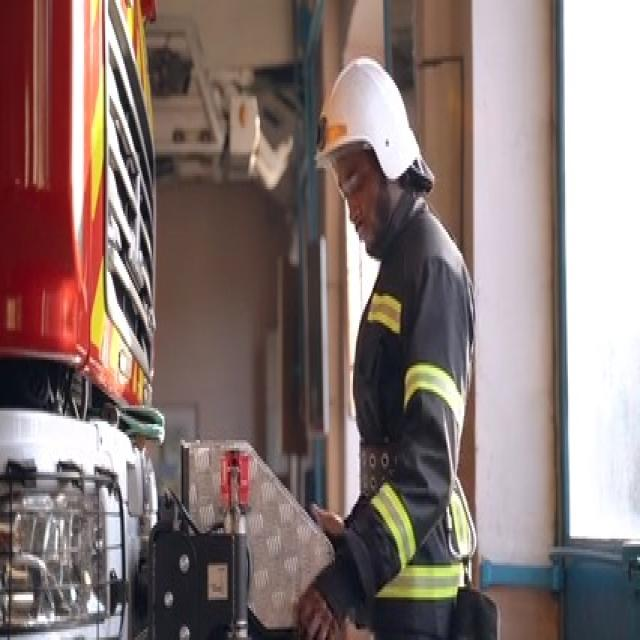Helmet_Wearer: (317, 63, 428, 243)
Jacket_Wearer: (336, 217, 485, 640)
Person: (303, 47, 479, 640)
